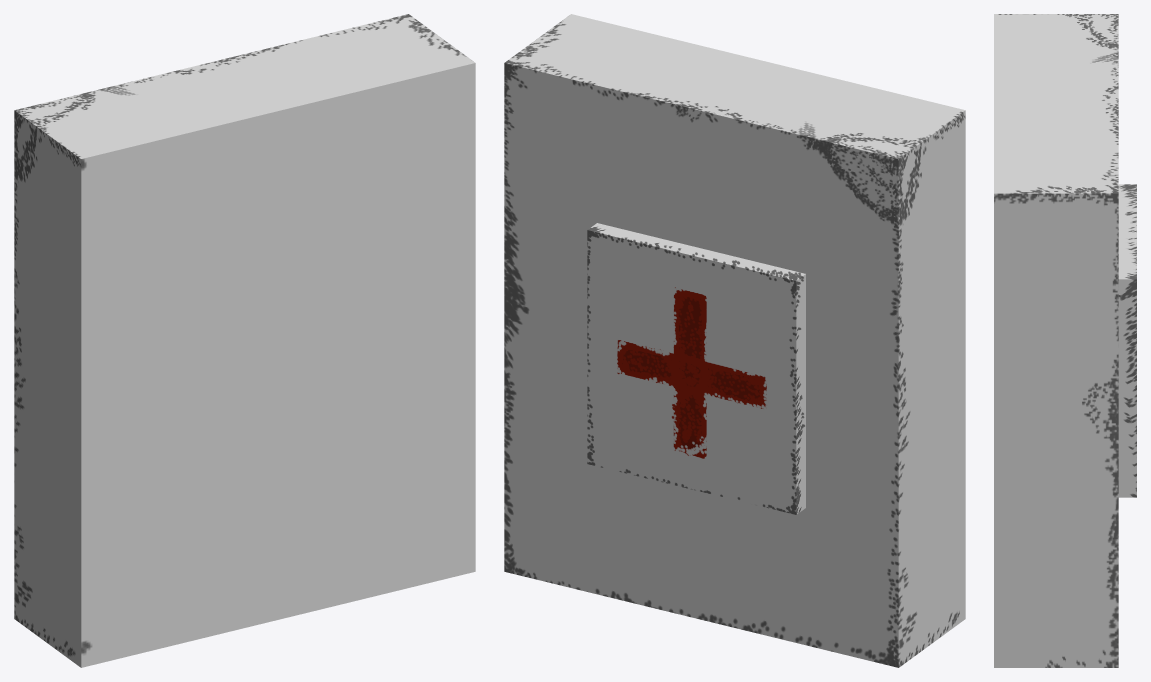
The model's file is HealthBox.fbx.
The picture shows the model from 3 angles, left to right: view 1: azimuth 30°, elevation 25°; view 2: azimuth 150°, elevation 25°; view 3: azimuth 270°, elevation 25°; orthographic projection. The views are drawn at different scales.
Visible parts, largest first — view 1: Cube.034; view 2: Cube.034; view 3: Cube.034.
Part boxes in pixels (x1,y1,x2,y2): Cube.034: [14, 14, 475, 667]; Cube.034: [504, 14, 965, 667]; Cube.034: [994, 14, 1136, 667].
Bounding box in the file's own units: 162 × 200 × 54.54.
